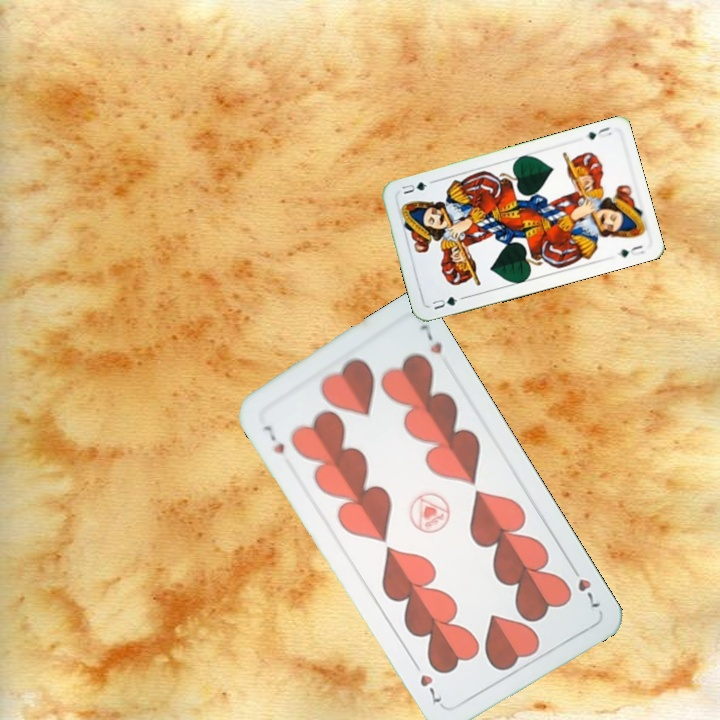GU: (428, 292, 460, 312), (581, 123, 614, 142)
H7: (566, 560, 603, 614), (257, 421, 287, 457)
